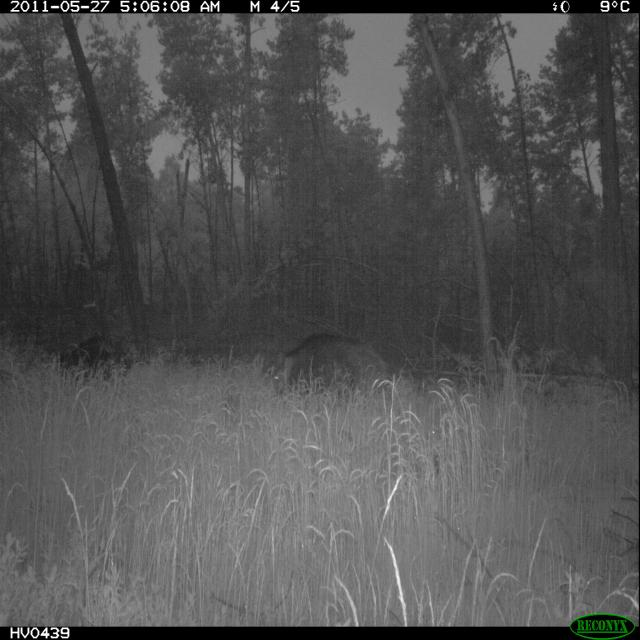boar: (260, 304, 384, 426), (56, 310, 152, 414)
